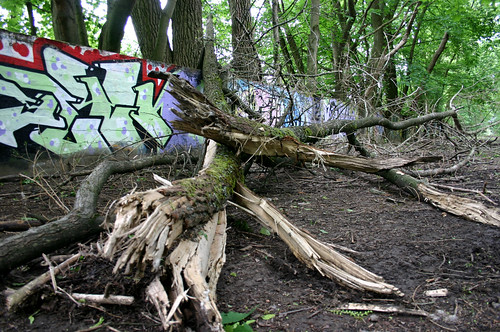graffiti: (1, 32, 167, 158)
tree: (1, 135, 376, 332), (119, 74, 493, 179)
vegetation: (185, 1, 500, 87)
